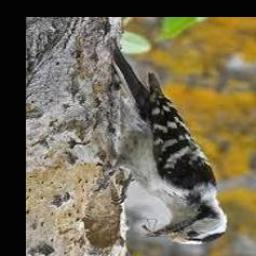Woodpecker: (111, 45, 228, 245)
